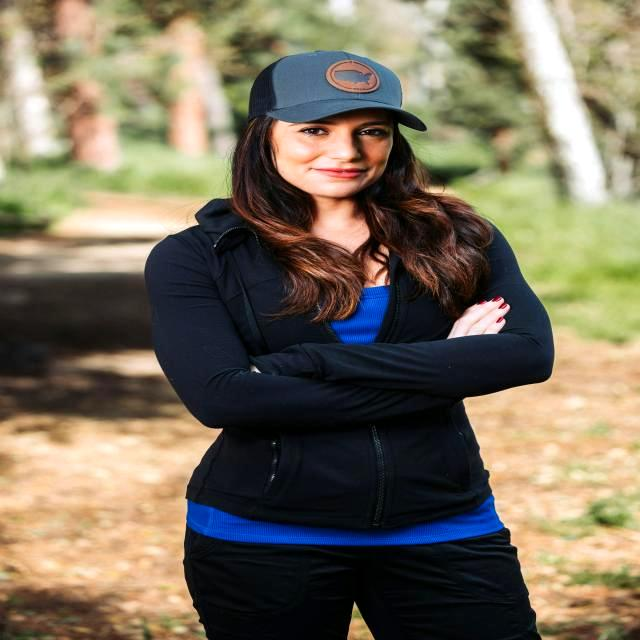no_hard_hat: (249, 51, 426, 131)
person: (146, 51, 554, 640)
